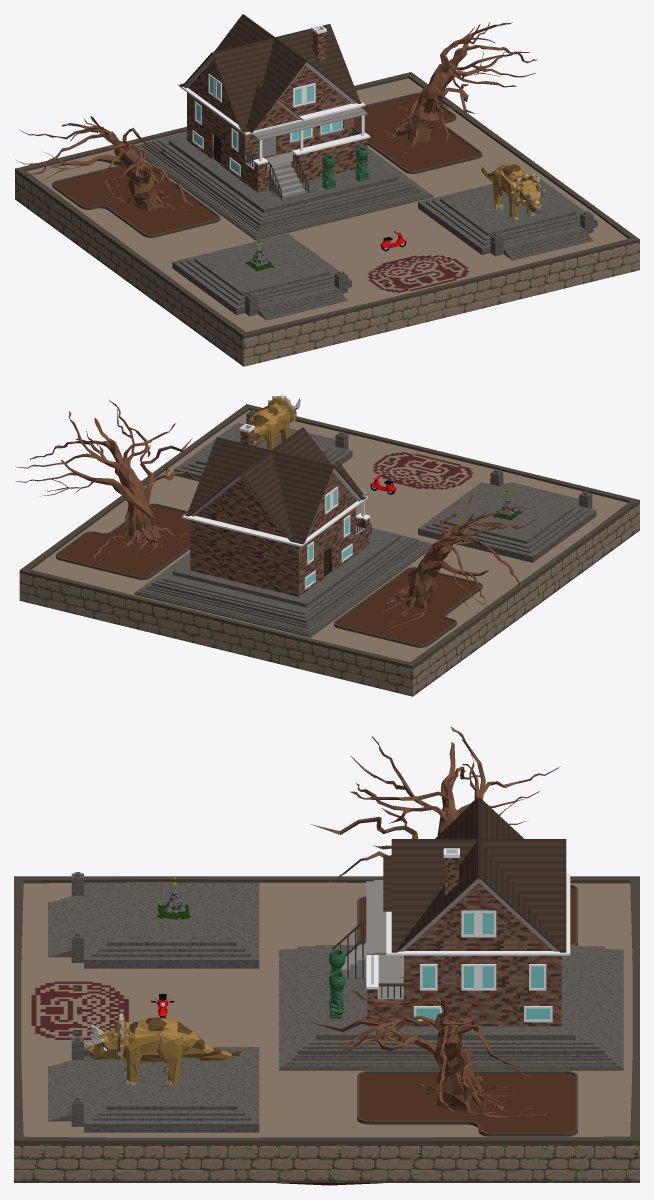
3 renders of one model, top to bottom at view 1: azimuth 30°, elevation 25°; view 2: azimuth 150°, elevation 25°; view 3: azimuth 270°, elevation 25°, orthographic. The views are drawn at different scales.
Visible parts, largest first — view 1: Cube.011, Cube.117, ANIMAL_Triceratops; view 2: Cube.011, Cube.117, ANIMAL_Triceratops; view 3: Cube.011, Cube.117, ANIMAL_Triceratops, OBJRANDOM_SWORD_IN_THE_STONE.
Boxes of the visible parts, x1,y1,x2,y2 form: Cube.011: (15, 22, 639, 366); Cube.117: (178, 14, 370, 199); ANIMAL_Triceratops: (481, 162, 545, 220); Cube.011: (15, 400, 639, 696); Cube.117: (182, 424, 371, 596); ANIMAL_Triceratops: (248, 395, 300, 450); Cube.011: (14, 726, 639, 1182); Cube.117: (332, 797, 570, 1026); ANIMAL_Triceratops: (82, 1013, 242, 1086); OBJRANDOM_SWORD_IN_THE_STONE: (156, 876, 190, 919).
Bounding box in the file's own units: 5099 × 1726 × 4000.
Materials: 42 (6 with a texture image).
